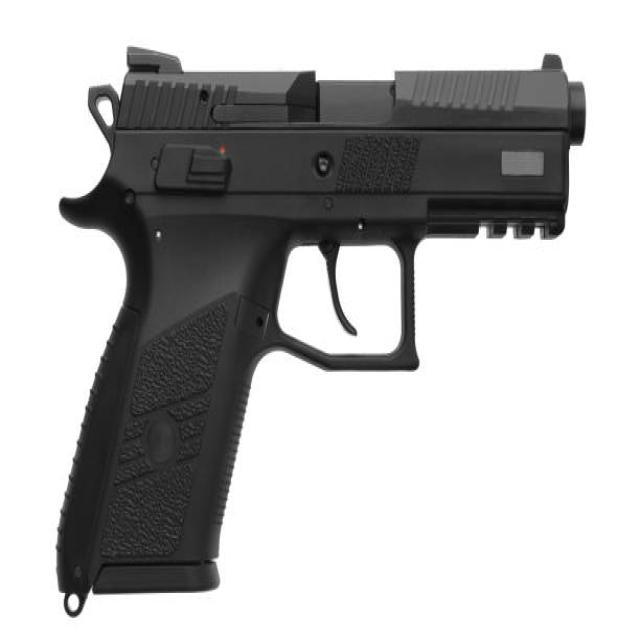pistol: (51, 37, 596, 622)
